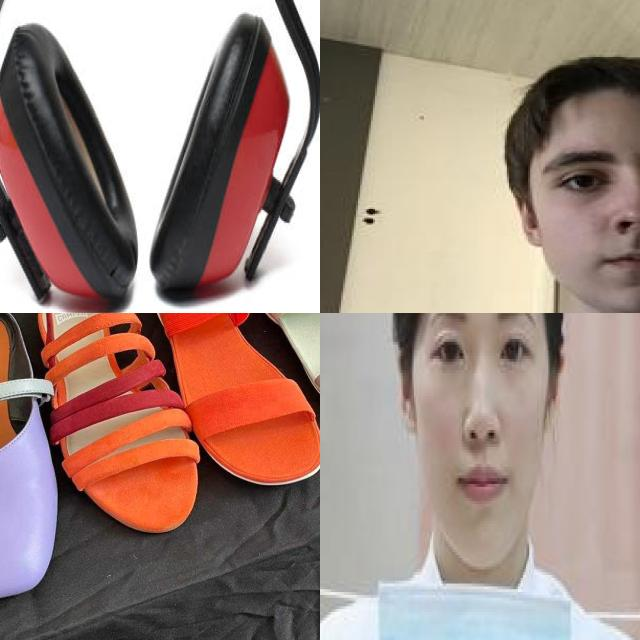Ear-protection: (0, 0, 320, 313)
No_Ear-Protection: (392, 341, 423, 434)
No_Glasses: (419, 313, 555, 401), (531, 137, 640, 212)
Sandals: (17, 313, 222, 540), (134, 313, 320, 499), (0, 313, 77, 607)
face_nomask: (409, 313, 548, 566), (532, 133, 640, 313)
head_nohelmet: (515, 55, 640, 135)
person: (320, 313, 640, 640), (320, 58, 640, 313)
